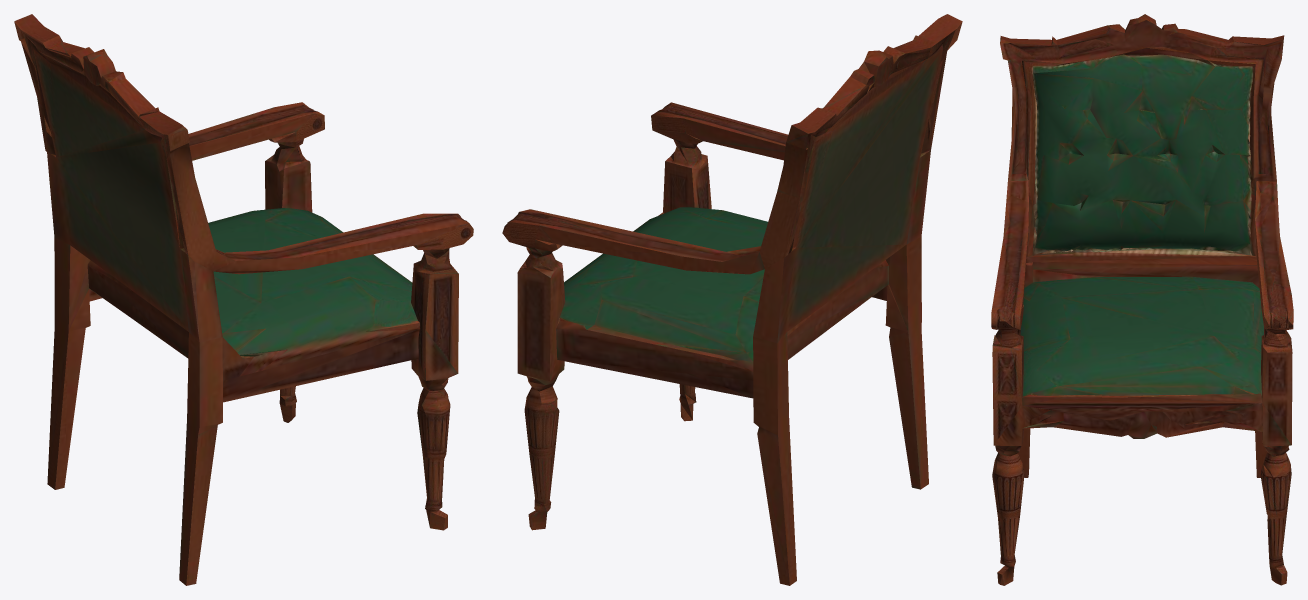
Rendered from mj-dining-chair-jacobean.glb.
The picture shows the model from 3 angles, left to right: view 1: azimuth 30°, elevation 25°; view 2: azimuth 150°, elevation 25°; view 3: azimuth 270°, elevation 25°; orthographic projection. The views are drawn at different scales.
Visible parts, largest first — view 1: mj-dining-chair-jacobean; view 2: mj-dining-chair-jacobean; view 3: mj-dining-chair-jacobean.
Part boxes in pixels (box(x1,y1,x2,y2)): mj-dining-chair-jacobean: box(14, 14, 473, 585); mj-dining-chair-jacobean: box(502, 14, 962, 585); mj-dining-chair-jacobean: box(991, 14, 1293, 585).
Size of the model in its own units: 0.6199 by 0.9501 by 0.58.
1 material, 1 textured.
